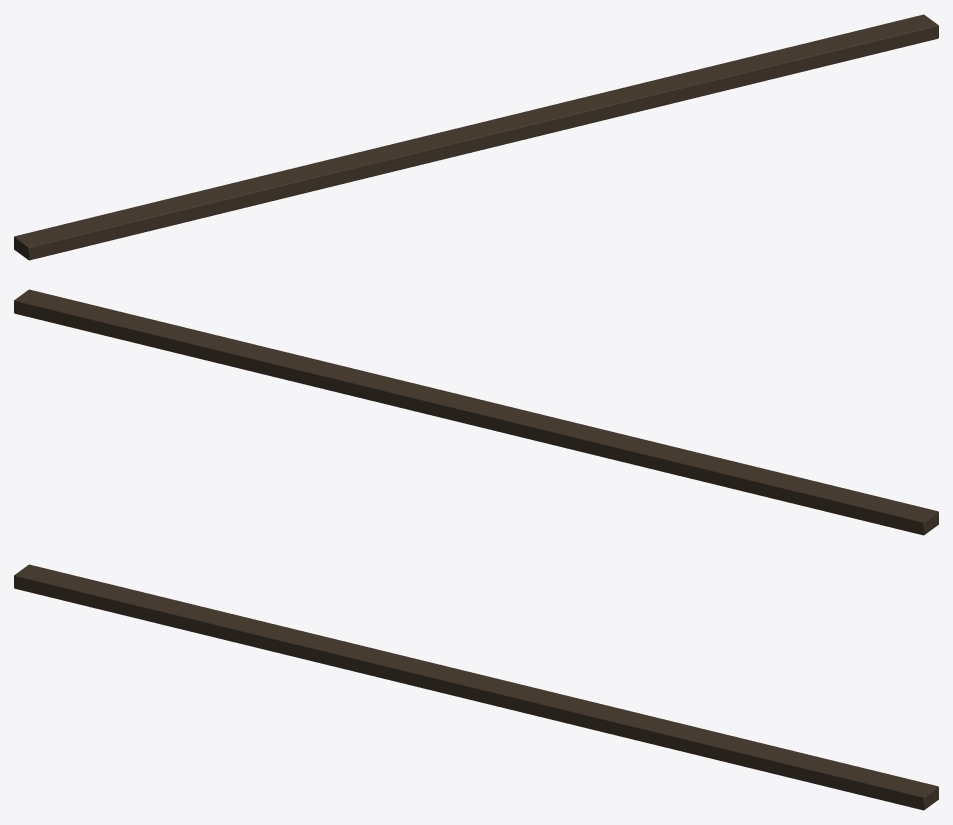
The model's file is stacker_stick.glb.
3 views of the same model, one above another, from view 1: azimuth 30°, elevation 25°; view 2: azimuth 150°, elevation 25°; view 3: azimuth 330°, elevation 25° (orthographic).
Parts seen in each view (by area): view 1: Stick; view 2: Stick; view 3: Stick.
Part boxes in pixels (box(x1,y1,x2,y2)): Stick: box(14, 14, 938, 260); Stick: box(14, 289, 938, 535); Stick: box(14, 564, 938, 810).
Size of the model in its own units: 1.32 by 0.0191 by 0.0381.
